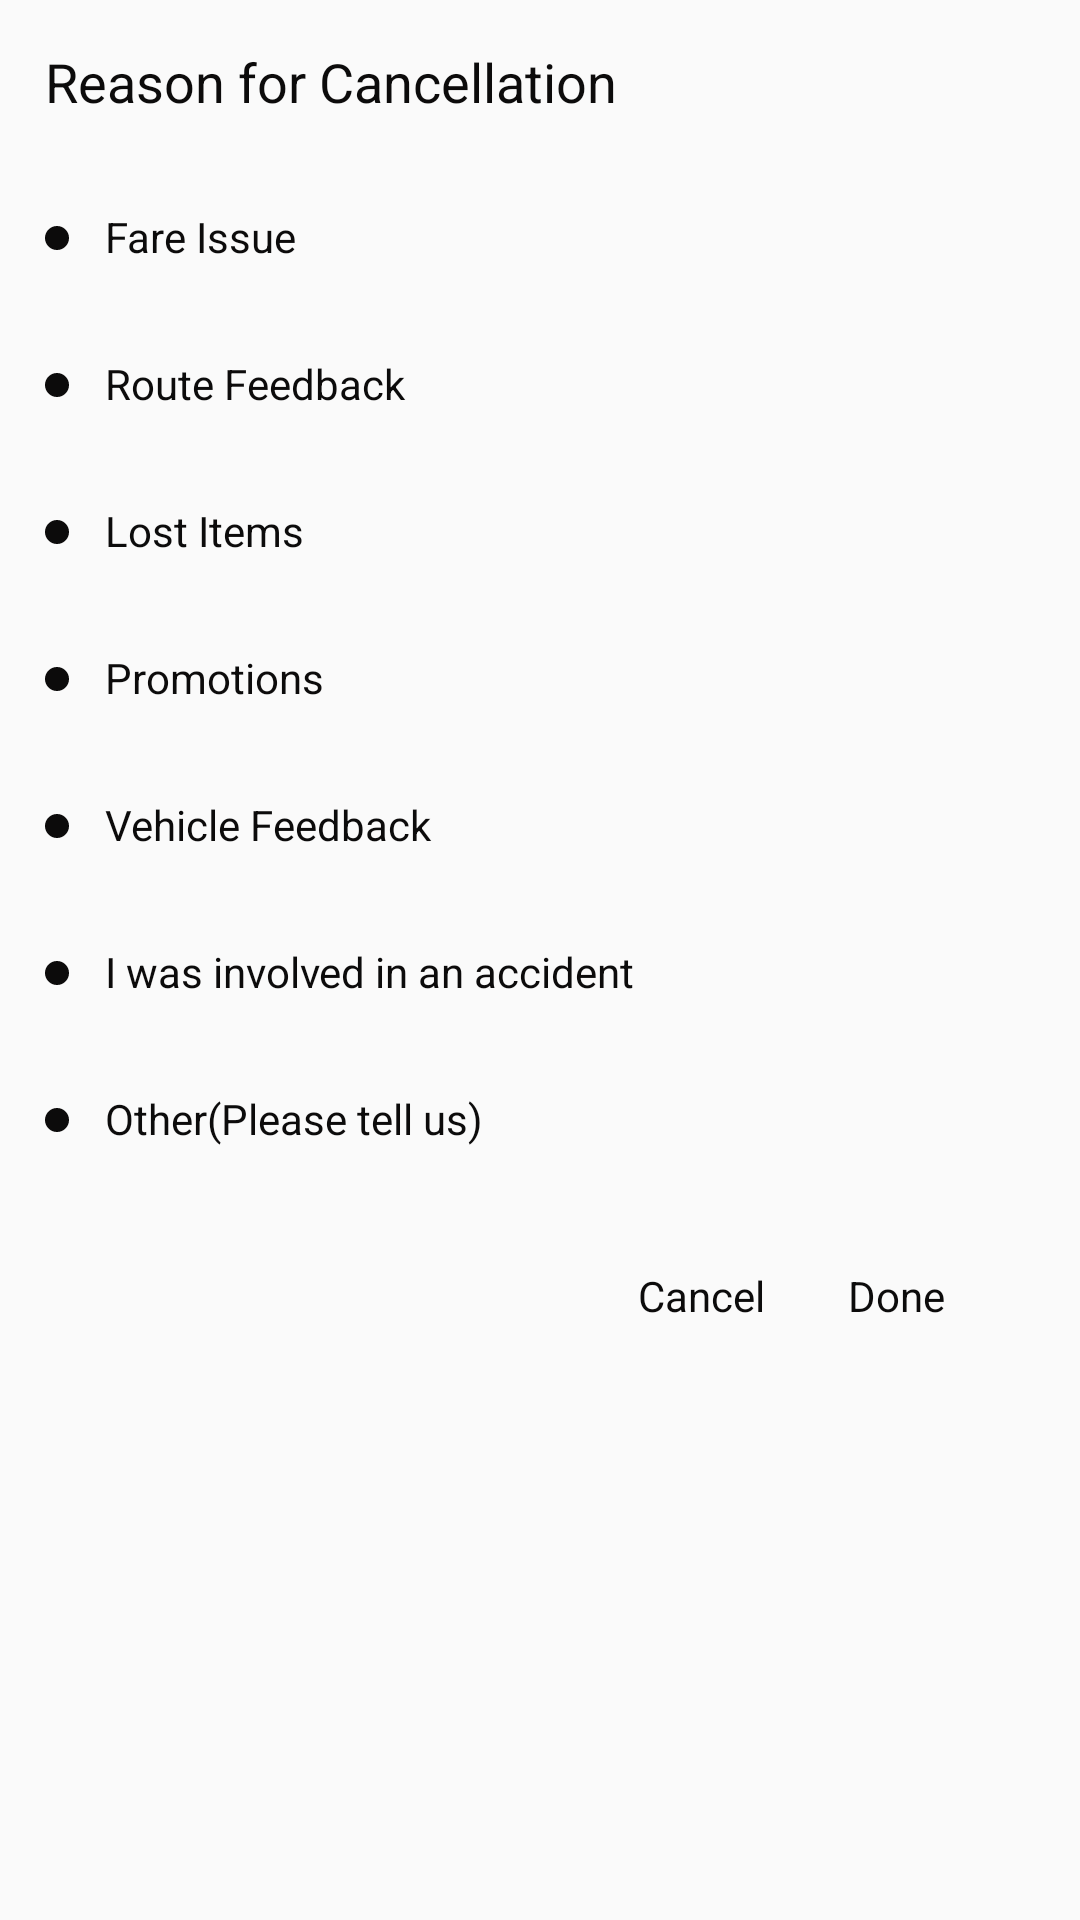

Screen size 1080*1920. Icon name, then its center in pixels as point (x, y):
dot: point (57, 238), point (57, 385), point (57, 532), point (57, 679), point (57, 826), point (57, 973), point (57, 1120)
